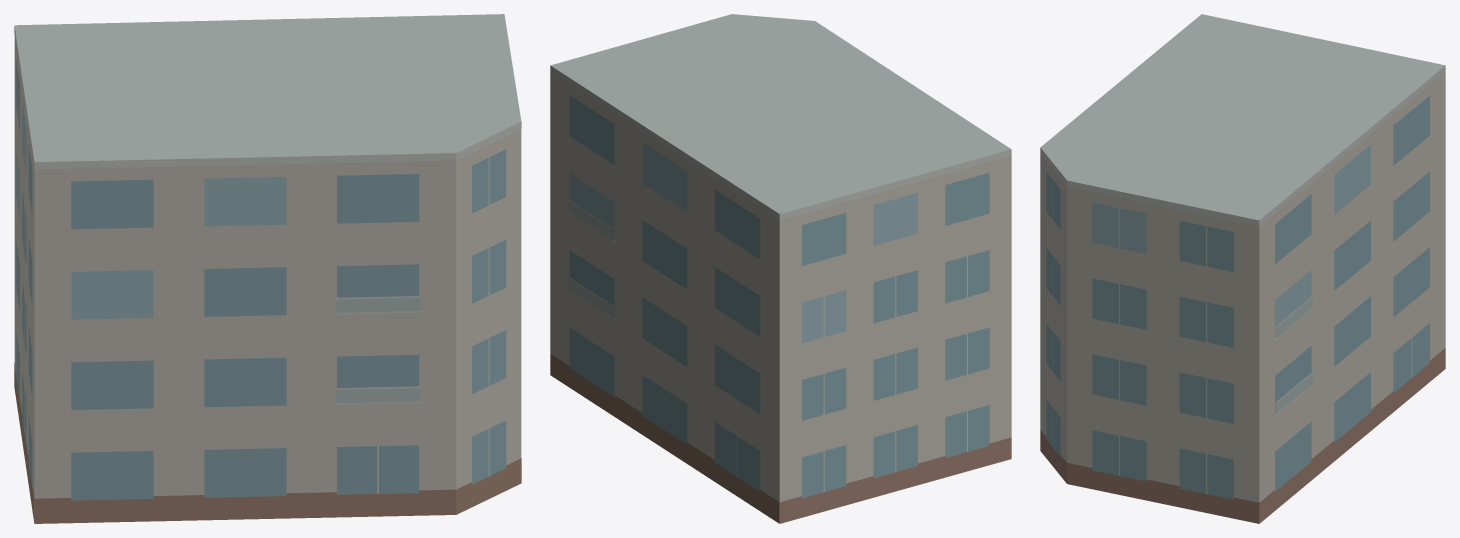
Rendered from survey-upis-32524657.glb.
3 views of the same model, side by side, from view 1: azimuth 30°, elevation 25°; view 2: azimuth 150°, elevation 25°; view 3: azimuth 270°, elevation 25° (orthographic). The views are drawn at different scales.
Visible parts, largest first — view 1: survey-upis-32524657.tmp; view 2: survey-upis-32524657.tmp; view 3: survey-upis-32524657.tmp.
Part boxes in pixels (box(x1,y1,x2,y2)): survey-upis-32524657.tmp: box(14, 14, 521, 523); survey-upis-32524657.tmp: box(550, 14, 1011, 523); survey-upis-32524657.tmp: box(1040, 14, 1445, 523).
Bounding box in the file's own units: 17.5 × 11.99 × 14.52.
